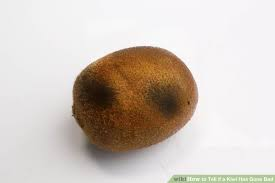damaged_apple: (71, 46, 199, 155)
